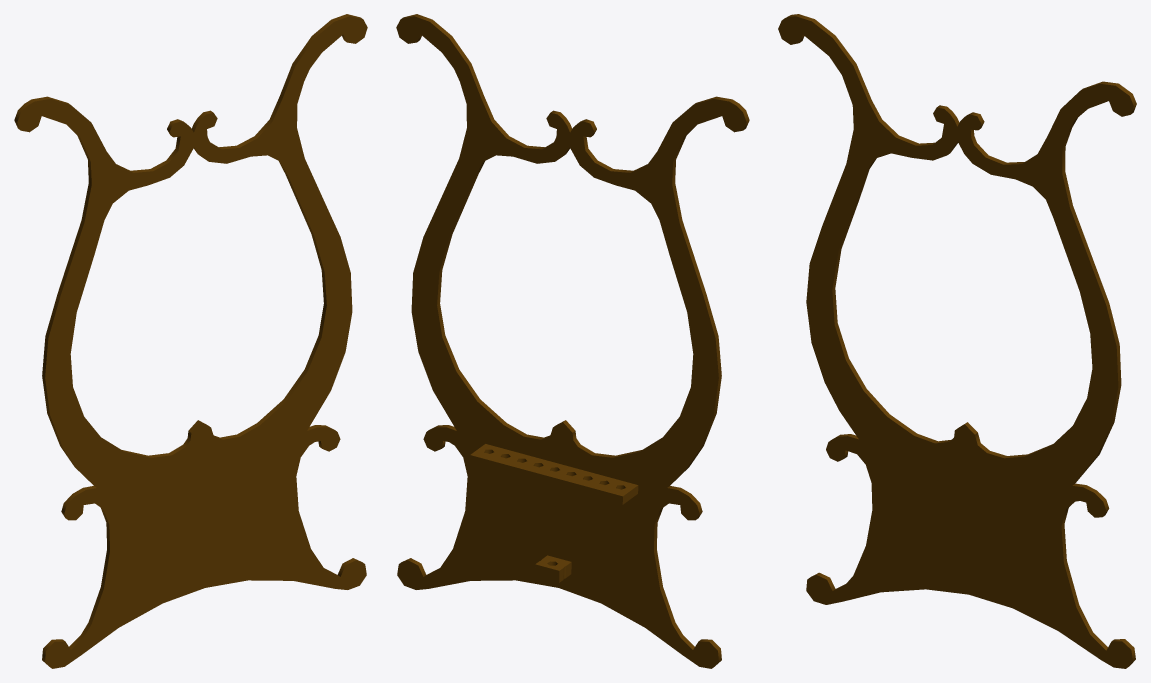
The model's file is Lyre balancier.obj.
The picture shows the model from 3 angles, left to right: view 1: azimuth 30°, elevation 25°; view 2: azimuth 150°, elevation 25°; view 3: azimuth 330°, elevation 25°; orthographic projection.
Parts seen in each view (by area): view 1: Face_4, Face_19, Face_25, Face_12, Face_22; view 2: Face_3, Face_31, Face_33, Face_19, Face_25, Face_12, Face_22; view 3: Face_4, Face_10, Face_26, Face_17, Face_7.
Part boxes in pixels (box(x1,y1,x2,y2)): Face_4: box(17, 16, 367, 668); Face_19: box(42, 125, 95, 486); Face_25: box(193, 147, 326, 439); Face_12: box(210, 14, 362, 149); Face_22: box(69, 508, 109, 649); Face_3: box(396, 16, 746, 668); Face_31: box(470, 444, 637, 496); Face_33: box(470, 455, 622, 504); Face_19: box(668, 125, 721, 486); Face_25: box(437, 147, 570, 439); Face_12: box(401, 14, 553, 149); Face_22: box(654, 508, 694, 649); Face_4: box(778, 16, 1133, 668); Face_10: box(1062, 109, 1121, 484); Face_26: box(832, 142, 958, 443); Face_17: box(783, 14, 934, 145); Face_7: box(1061, 501, 1107, 650).
Size of the model in its own units: 0.149 by 0.2361 by 0.0135.
